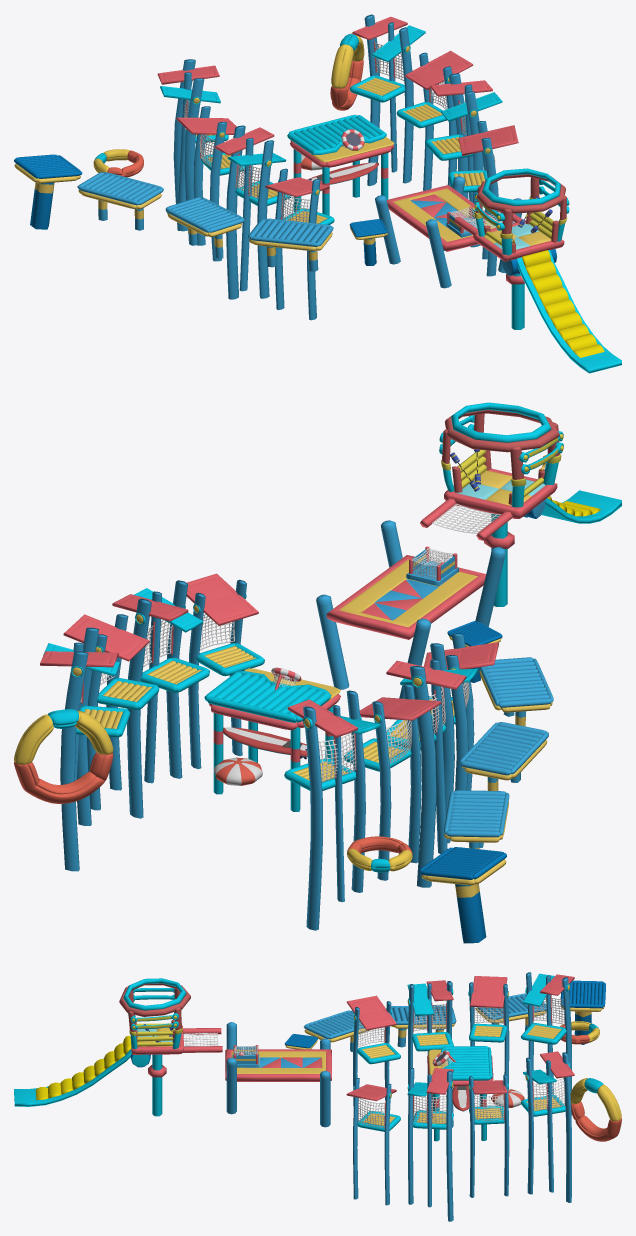
The model's file is Prueba2.fbx.
3 renders of one model, top to bottom at view 1: azimuth 30°, elevation 25°; view 2: azimuth 150°, elevation 25°; view 3: azimuth 270°, elevation 25°, orthographic. The views are drawn at different scales.
Parts seen in each view (by area): view 1: baseTop, polySurface1570, ramp2, pCube86, polySurface1551, polySurface2233, polySurface2235, polySurface2232, polySurface2231, pCube9, base2, pCylinder103 (+40 smaller); view 2: pCube86, baseTop, polySurface1570, polySurface2231, polySurface2235, polySurface2232, polySurface1551, polySurface2233, pCylinder103, pCylinder99, pCylinder72, base2 (+41 smaller); view 3: pCube86, baseTop, polySurface2231, polySurface1570, polySurface2235, ramp2, polySurface1551, polySurface2232, pCube9, pCube95, polySurface2233, pCube100 (+49 smaller).
Part boxes in pixels (x1,y1,x2,y2): baseTop: (474, 168, 569, 255); polySurface1570: (287, 114, 394, 167); ramp2: (522, 250, 604, 357); pCube86: (386, 185, 499, 251); polySurface1551: (248, 218, 333, 271); polySurface2233: (77, 172, 163, 230); polySurface2235: (14, 154, 82, 229); polySurface2232: (165, 197, 244, 258); polySurface2231: (330, 33, 364, 110); pCube9: (516, 250, 621, 373); base2: (473, 220, 564, 261); pCylinder103: (226, 125, 245, 299); pCube86: (326, 555, 486, 639); baseTop: (439, 402, 563, 507); polySurface1570: (204, 668, 340, 730); polySurface2231: (14, 709, 113, 803); polySurface2235: (419, 847, 506, 943); polySurface2232: (460, 722, 548, 790); polySurface1551: (479, 657, 553, 726); polySurface2233: (444, 790, 509, 849); pCylinder103: (410, 666, 436, 887); pCylinder99: (303, 706, 322, 930); pCylinder72: (60, 651, 88, 871); base2: (444, 468, 557, 518); pCube86: (225, 1049, 331, 1081); baseTop: (119, 978, 190, 1049); polySurface2231: (570, 1078, 621, 1141); polySurface1570: (427, 1046, 493, 1086); polySurface2235: (560, 980, 605, 1044); ramp2: (35, 1035, 131, 1100); polySurface1551: (304, 1010, 369, 1051); polySurface2232: (391, 1005, 456, 1047); pCube9: (14, 1049, 131, 1106); pCube95: (470, 976, 507, 1007); polySurface2233: (475, 993, 546, 1030); pCube100: (346, 995, 396, 1030).
Bounding box in the file's own units: 7638 × 4055 × 12203.
